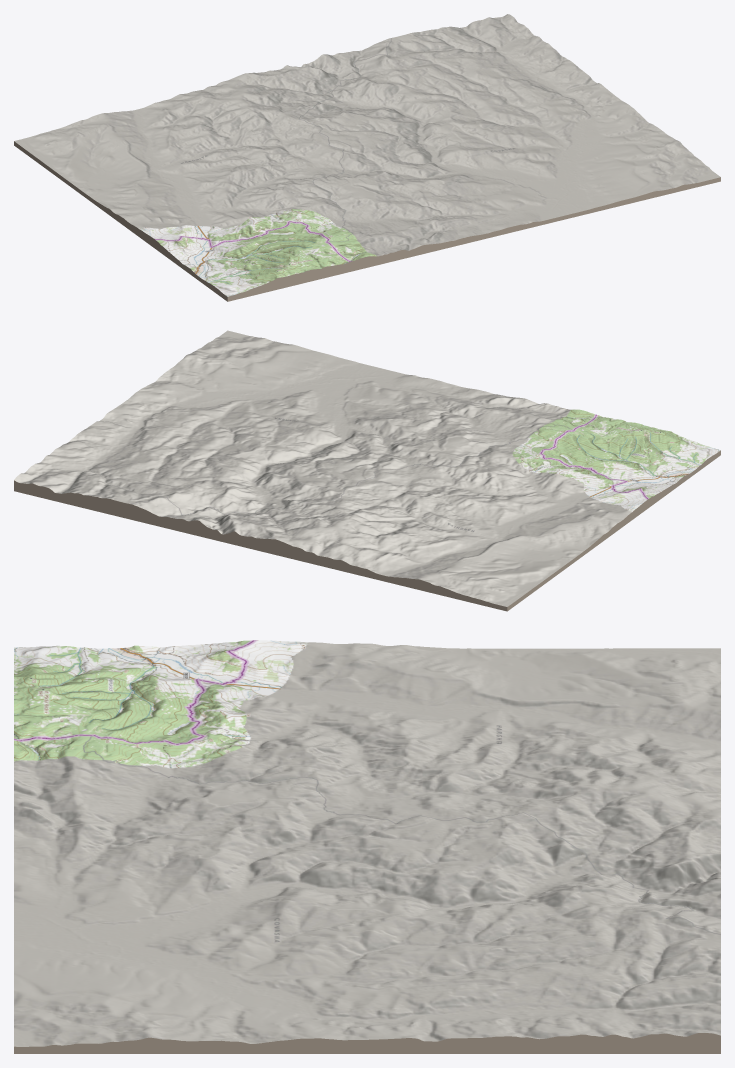
The picture shows the model from 3 angles, top to bottom: view 1: azimuth 30°, elevation 25°; view 2: azimuth 150°, elevation 25°; view 3: azimuth 270°, elevation 25°; orthographic projection. The views are drawn at different scales.
Parts seen in each view (by area): view 1: BV50-A4 Jimbor; view 2: BV50-A4 Jimbor; view 3: BV50-A4 Jimbor.
Part boxes in pixels (x1,y1,x2,y2): BV50-A4 Jimbor: [14, 14, 720, 301]; BV50-A4 Jimbor: [14, 330, 720, 611]; BV50-A4 Jimbor: [14, 640, 720, 1053].
Bounding box in the file's own units: 20000 × 688 × 15000.
Materials: 3 (1 with a texture image).
